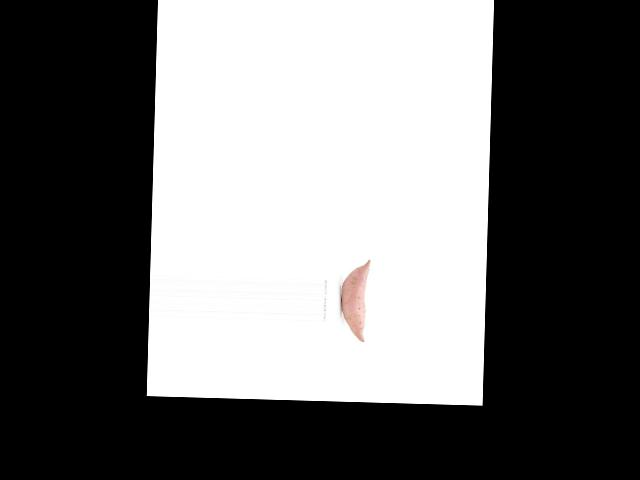sweet_potato: (339, 258, 375, 343)
